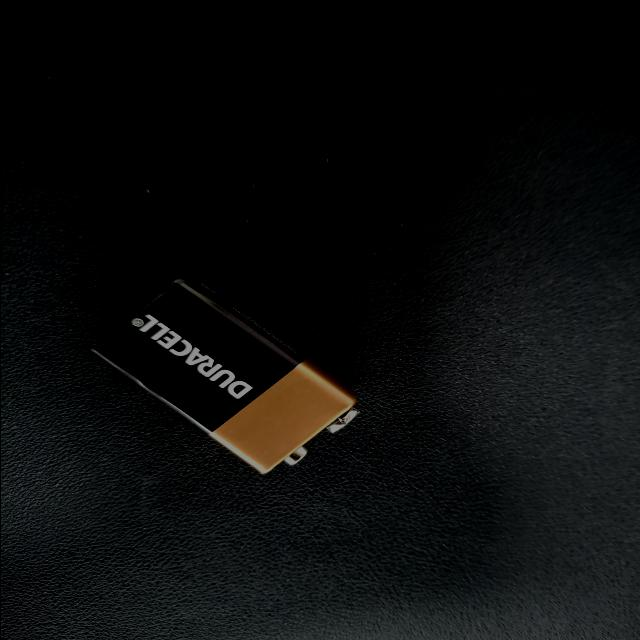9V: (160, 210, 418, 413)
